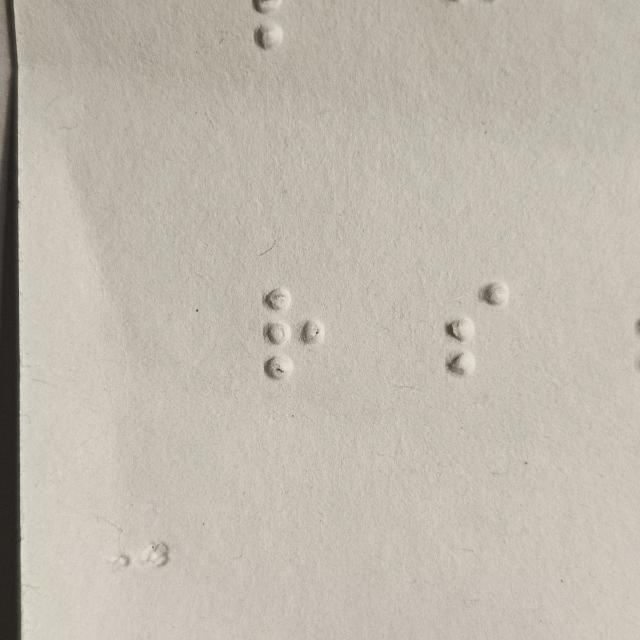rin: (263, 284, 325, 381)
sang-ayon: (447, 281, 509, 377)
